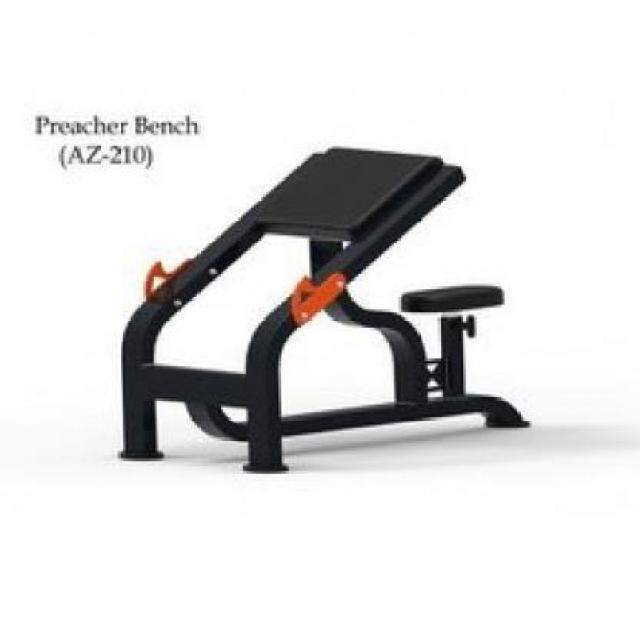arm curl machine: (118, 144, 531, 476)
